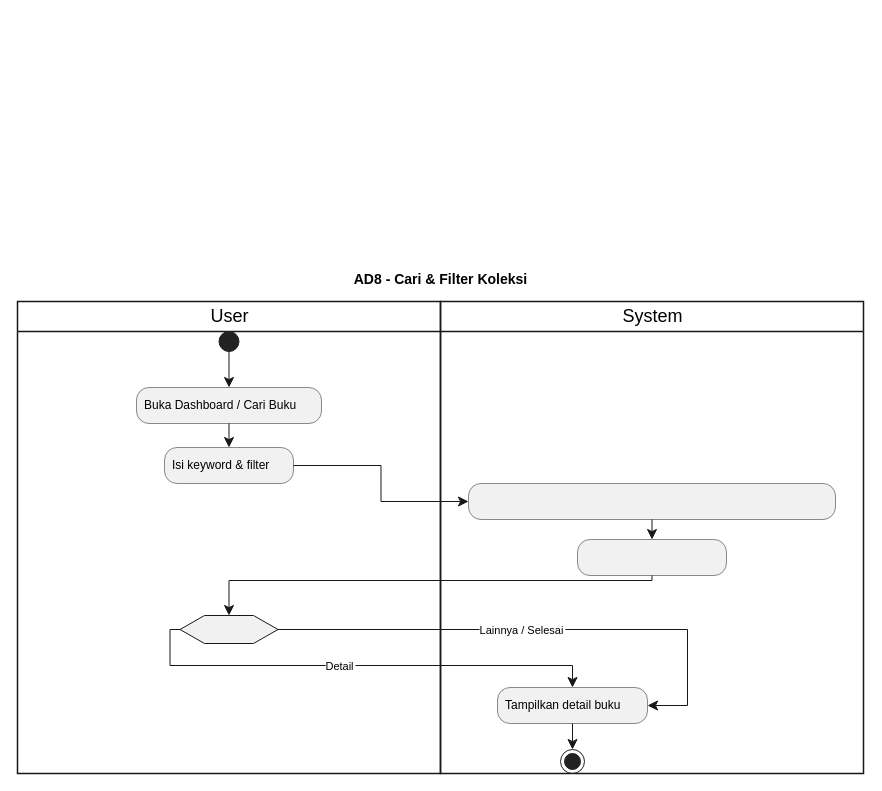
Some shapes in this 882 by 791 pixel diagram are drawn without their labels. Each missing label, with the centre of its shape:
"Aksi lanjutan?" goes at point (228, 629).
"Query buku aktif + filter, hitung tersedia, rating, bookmark" goes at point (651, 501).
"Tampilkan kartu buku" goes at point (651, 557).
